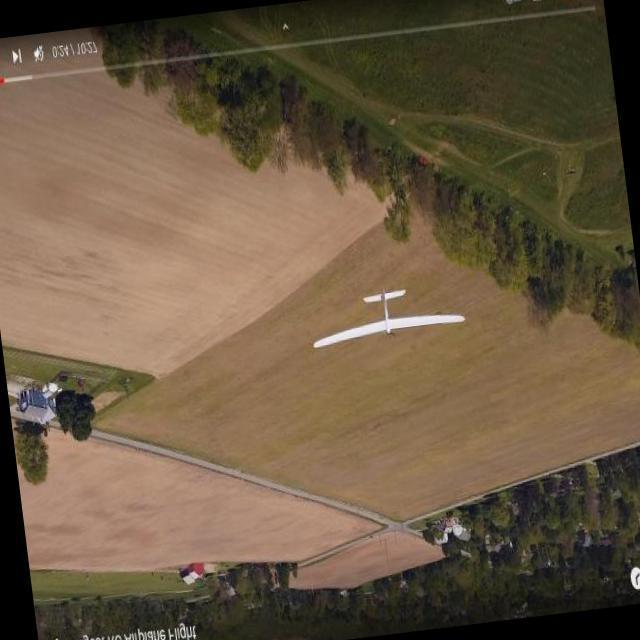iha: (304, 297, 472, 341)
